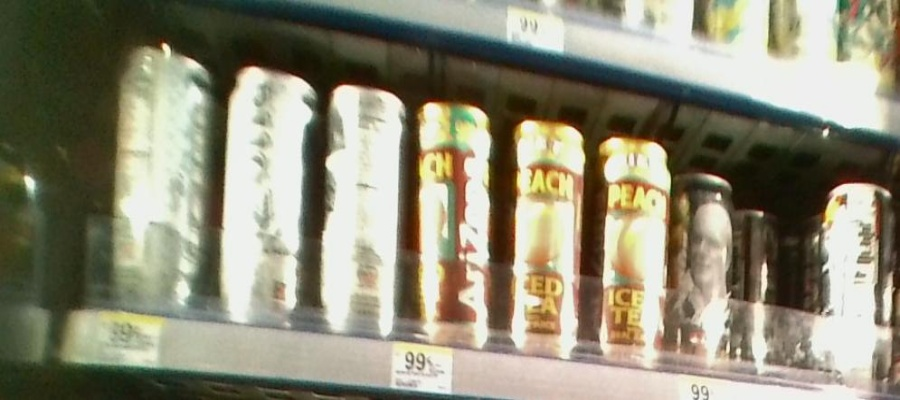bottle: (114, 46, 215, 318), (223, 61, 317, 328), (411, 87, 498, 367), (504, 97, 590, 375), (320, 67, 405, 346), (592, 128, 673, 380), (818, 180, 900, 398), (677, 156, 734, 383), (736, 191, 775, 373)
